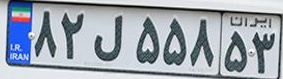character: (90, 8, 129, 65), (129, 12, 162, 69), (188, 15, 218, 73), (161, 13, 190, 72), (59, 7, 90, 62), (31, 8, 60, 62), (223, 29, 251, 76), (252, 30, 278, 76)
